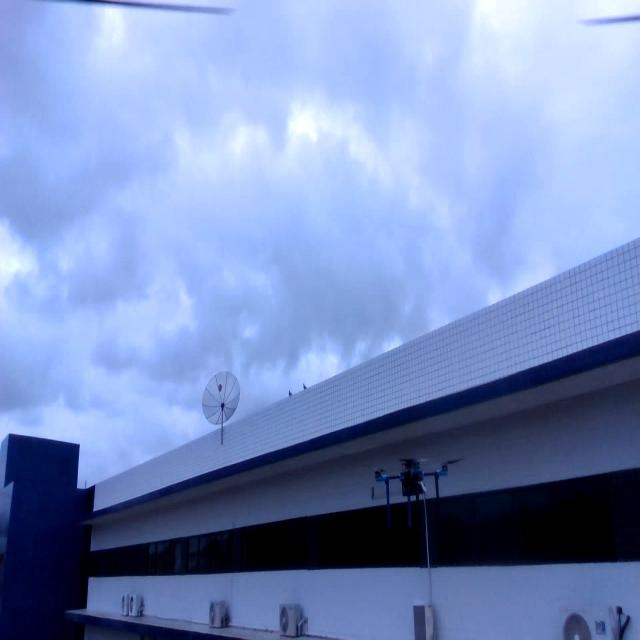-uav-: (362, 443, 468, 545)
